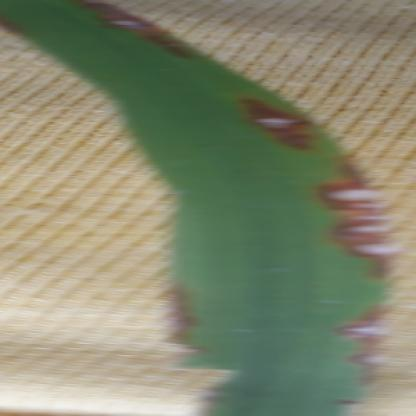Rice blast: (1, 1, 395, 416)
